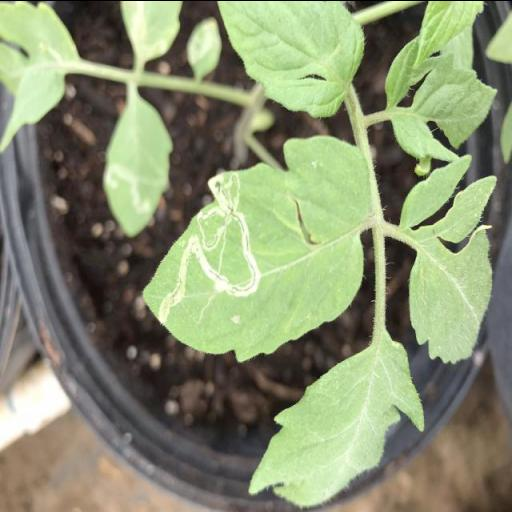disease_tomato: (140, 134, 374, 356)
